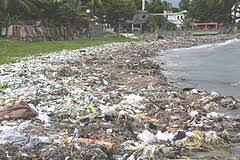garbage: (10, 62, 156, 160), (40, 89, 234, 160), (70, 47, 150, 160)
